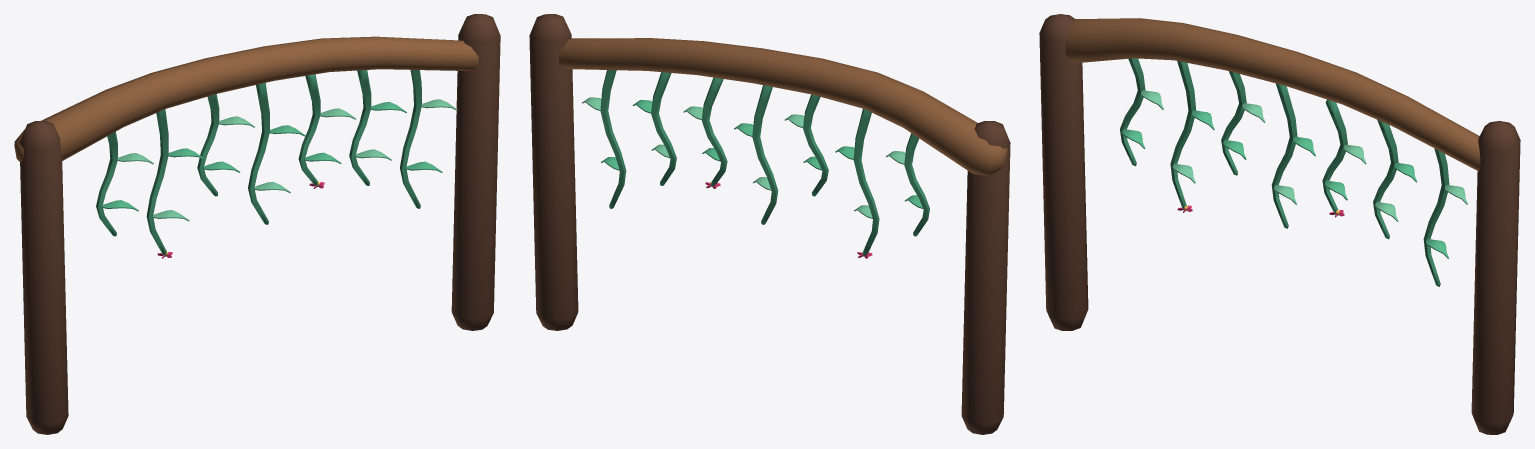
File: W3_Liana.fbx
3 renders of one model, left to right at view 1: azimuth 30°, elevation 25°; view 2: azimuth 150°, elevation 25°; view 3: azimuth 330°, elevation 25°, orthographic.
Parts seen in each view (by area): view 1: W3_Liana; view 2: W3_Liana; view 3: W3_Liana.
Boxes of the visible parts, x1=… form: W3_Liana: x1=14, y1=14, x2=500, y2=434; W3_Liana: x1=529, y1=14, x2=1010, y2=434; W3_Liana: x1=1039, y1=14, x2=1520, y2=434.
Bounding box in the file's own units: 14.12 × 9.48 × 1.31.
